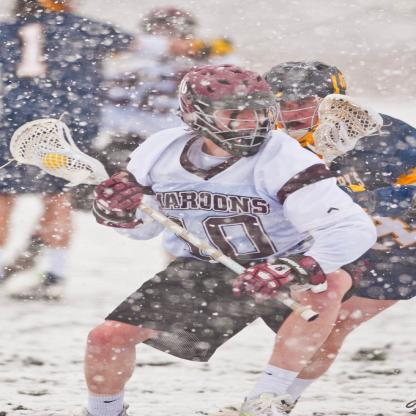Helmet: (174, 62, 278, 158), (253, 62, 343, 140)
